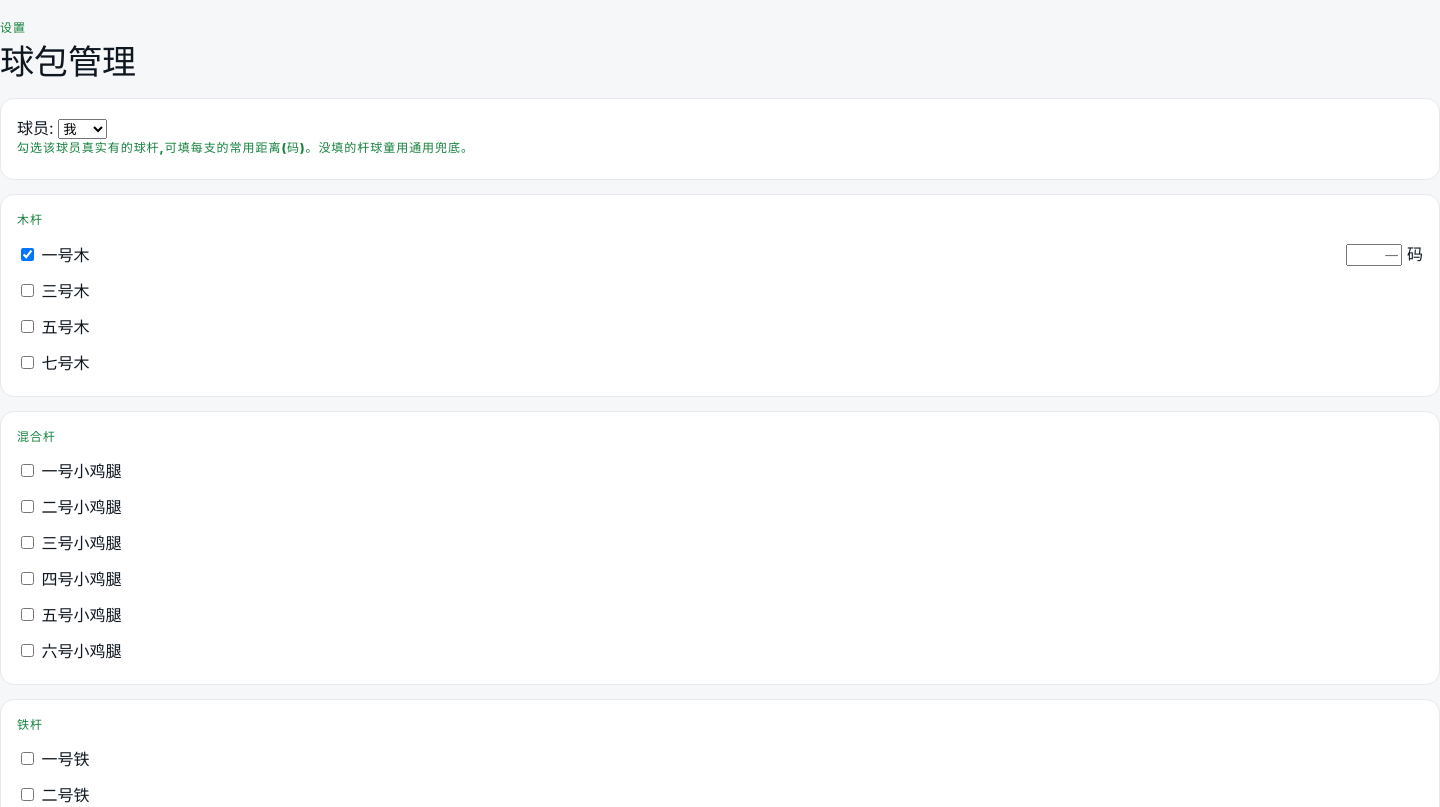
Test: ClubBagPage › saves the manual bag for the selected player (yards → metres, only checked clubs)
// Drop 一号木 so only 七号铁 remains, then save.
Click the checkbox labelled "一号木" at (28, 254), box [21,248,34,261]
(page scrolled)
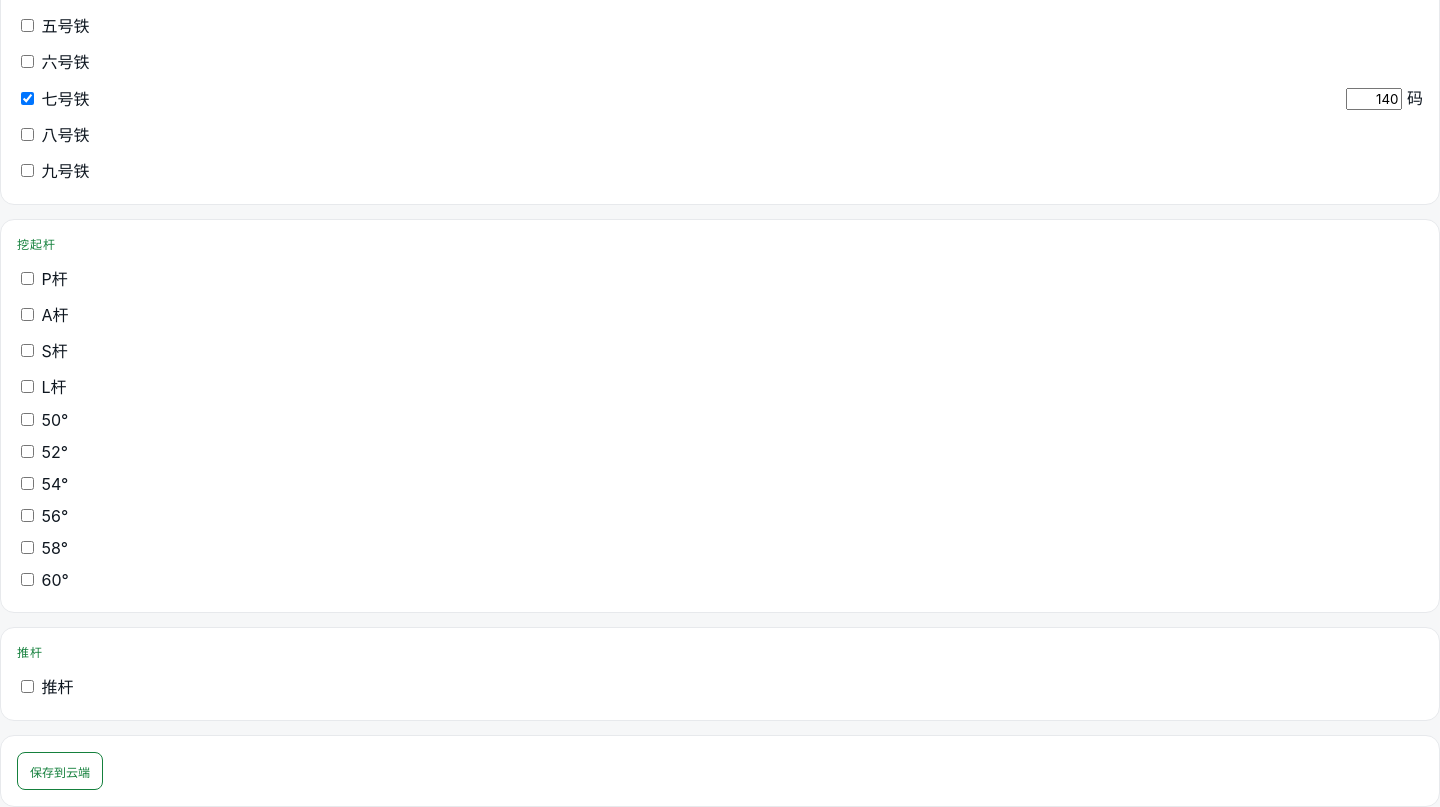
Click the button "保存到云端" at (60, 771), box [17,752,103,790]
(page scrolled)
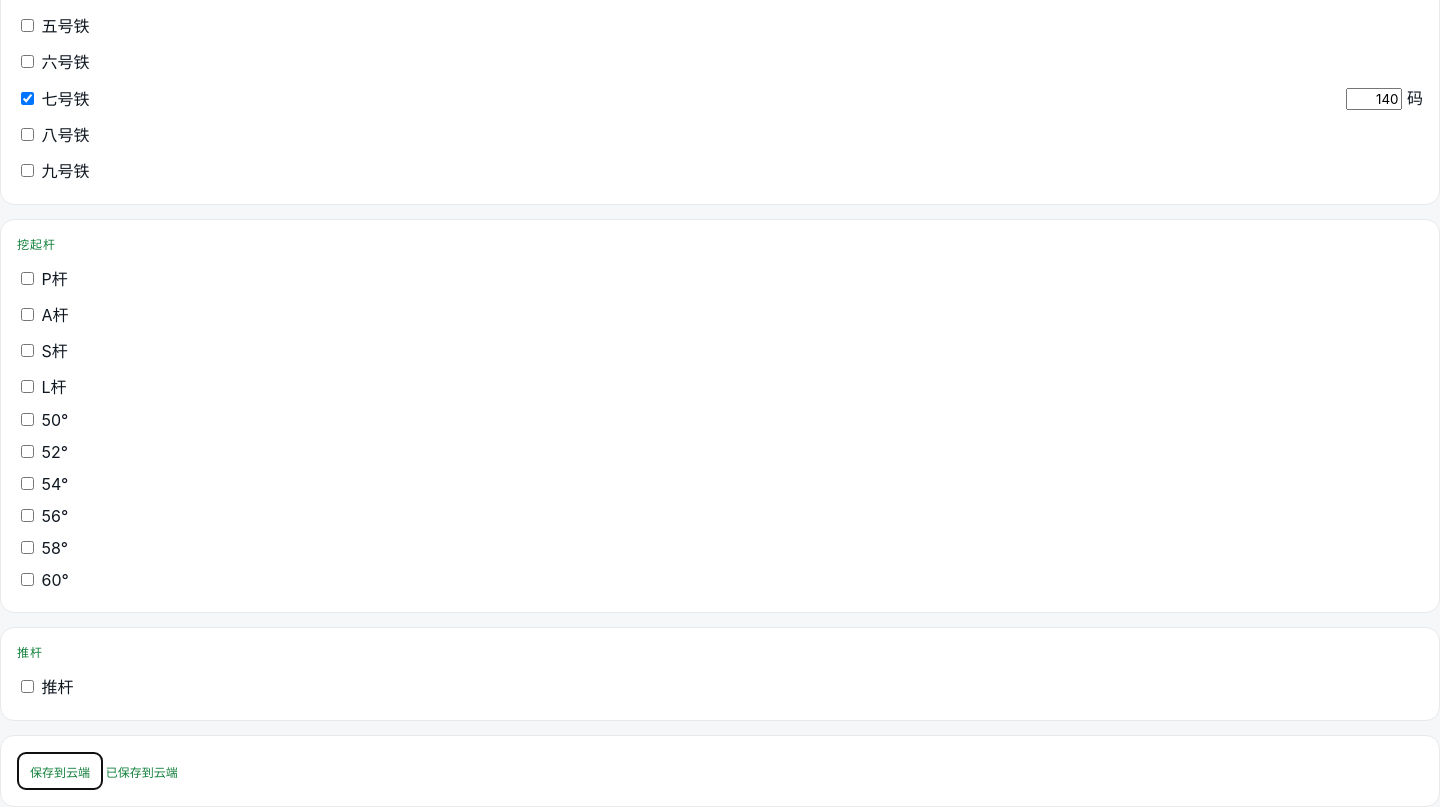
Check: the text "已保存到云端" is shown, box [103,765,178,780]
